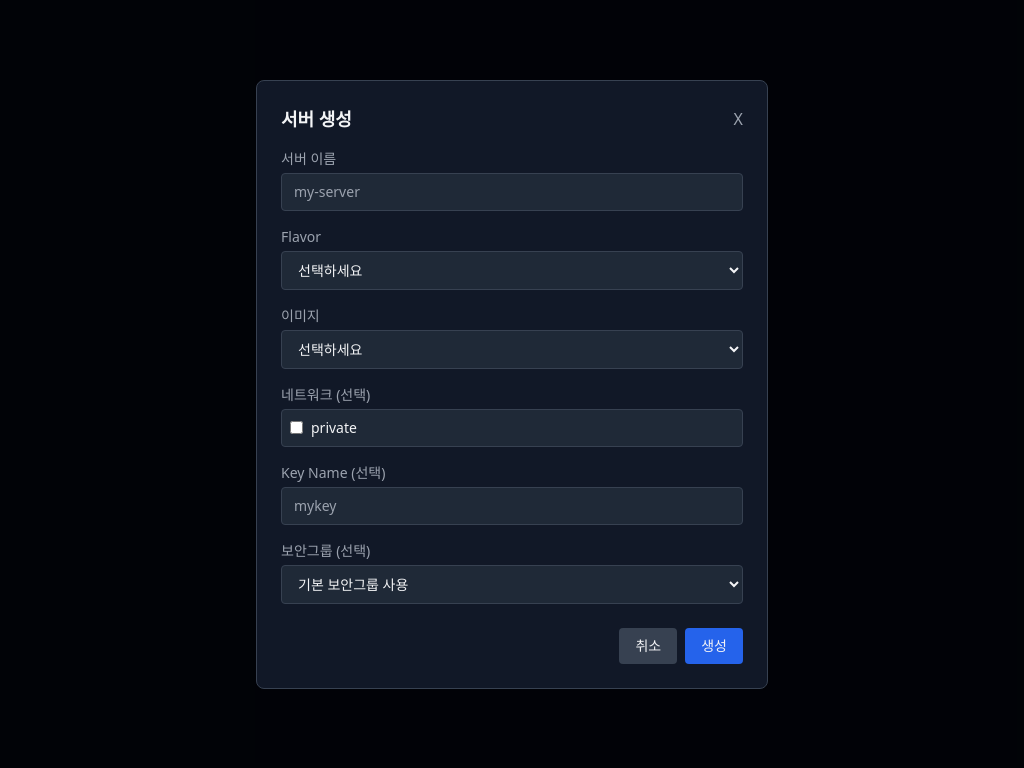
Scenario: ServerCreateModal › 서버 생성 실패 시 에러 메시지를 표시한다
Type "test-vm" into the field with placeholder "my-server". click: (512, 192)
box: [281,172,743,210]
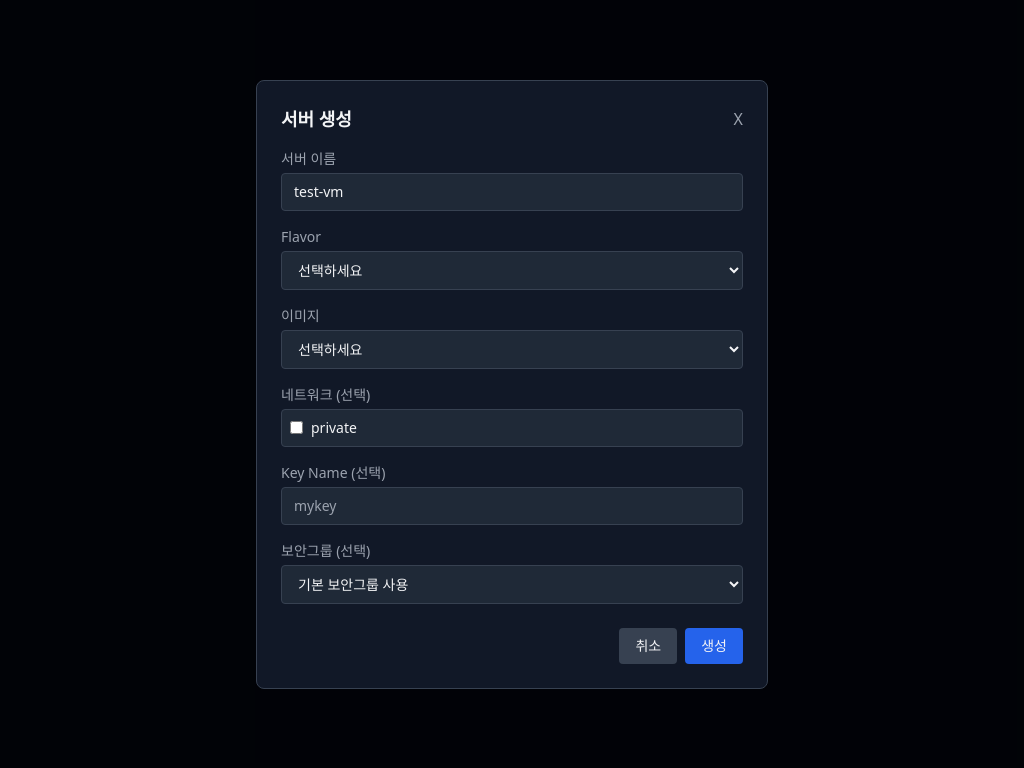
Select "m1.tiny (vCPU: 1, RAM: 512MB, Disk: 1GB)" in the dropdown below "Flavor". click: (512, 270)
box: [281,250,743,290]
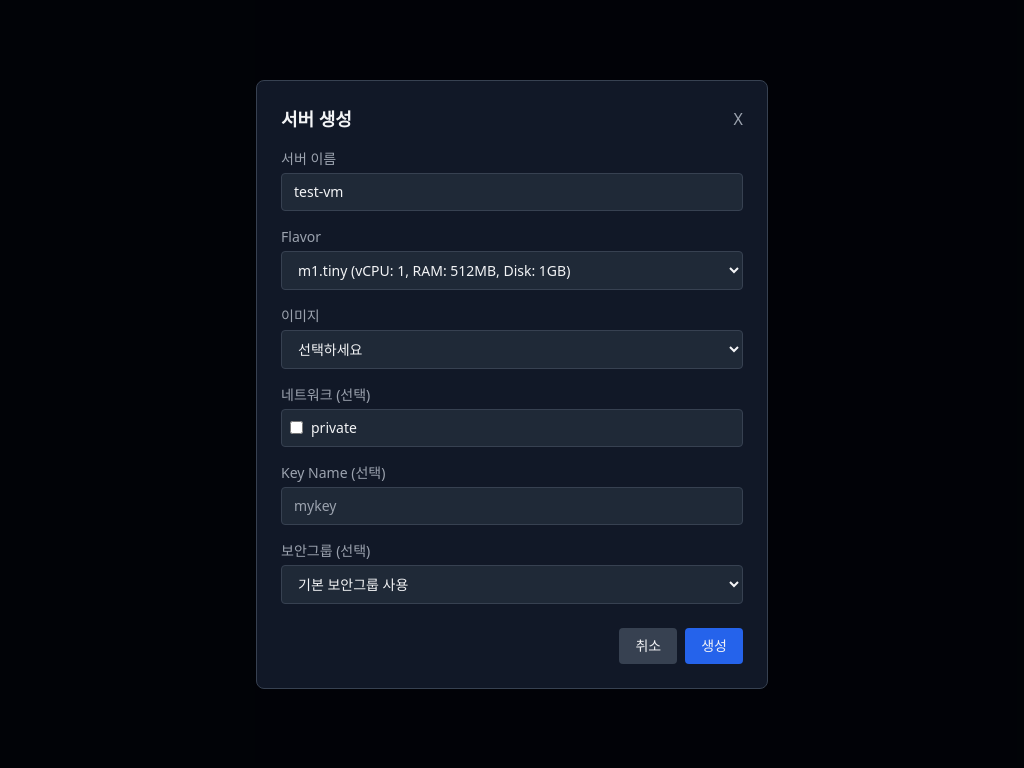
Select "cirros" in the dropdown below "이미지". click: (512, 349)
box: [281,330,743,368]
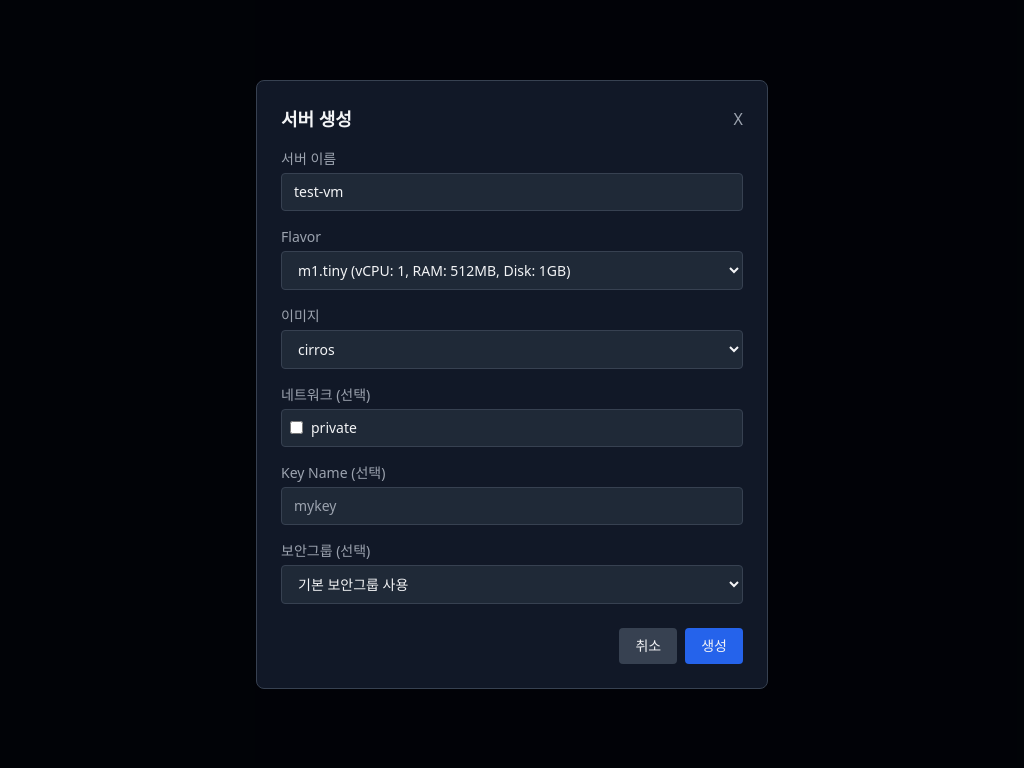
Click the button "생성". click: (714, 646)
box: [685,628,743,664]
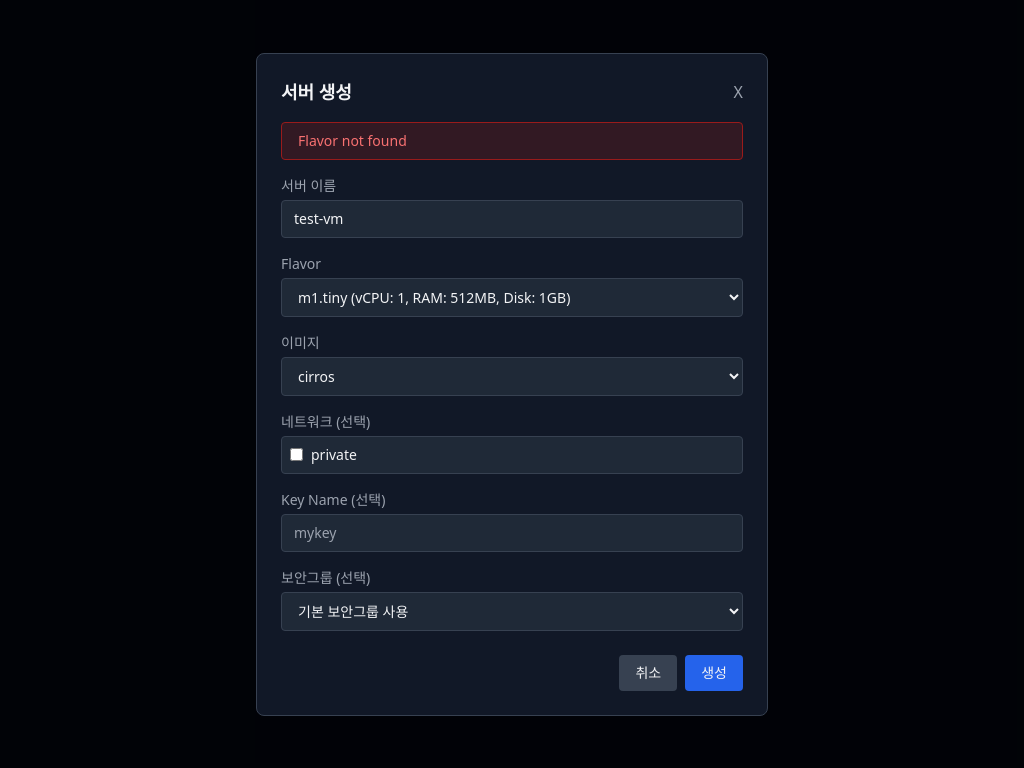
Expected: the text "Flavor not found" is shown, [281,122,743,160]
